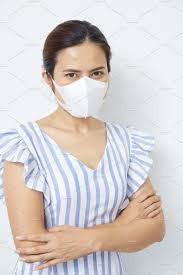mask: (41, 23, 115, 123)
